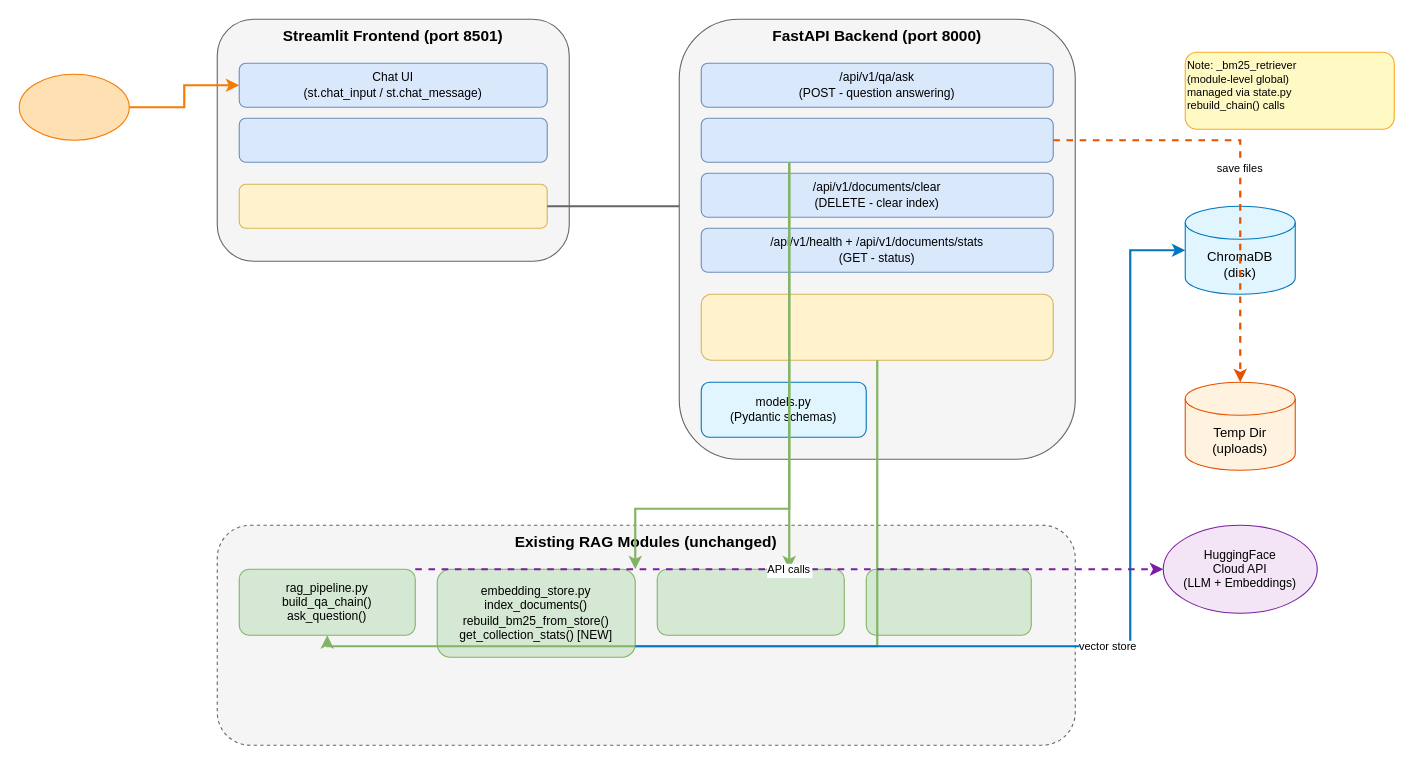
The diagram is 1414 pixels wide and 765 high, and some of its shapes have lost their labels. The centre of each missing label's shape, as x and y in pixels:
/api/v1/documents/upload (POST - file upload + ingest): pixel 876 139
api_client.py (httpx HTTP calls): pixel 392 205
config.py (env settings): pixel 948 601
document_processor.py load_from_path() chunk_documents(): pixel 750 601
Sidebar (file_uploader, stats, clear): pixel 392 139
state.py (chain + retriever lifecycle) rebuild_chain() / clear_chain(): pixel 876 326
User Browser: pixel 73 106
